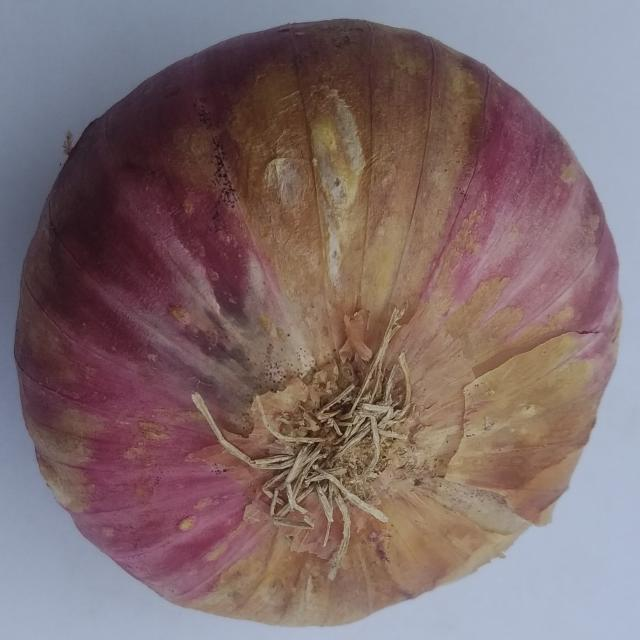onion: (12, 16, 623, 627)
